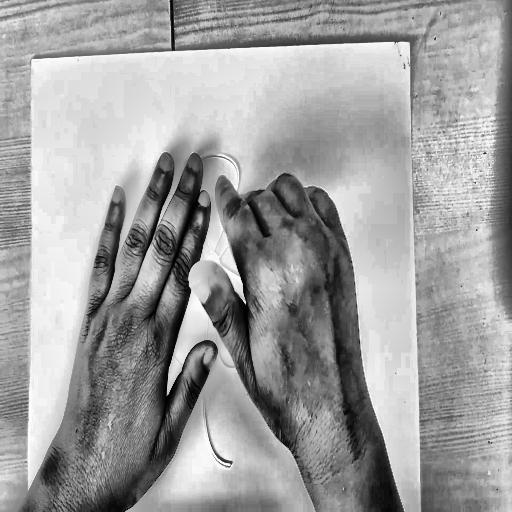flower: (134, 146, 287, 481)
top_left: (28, 54, 36, 67)
top_right: (405, 36, 414, 49)
